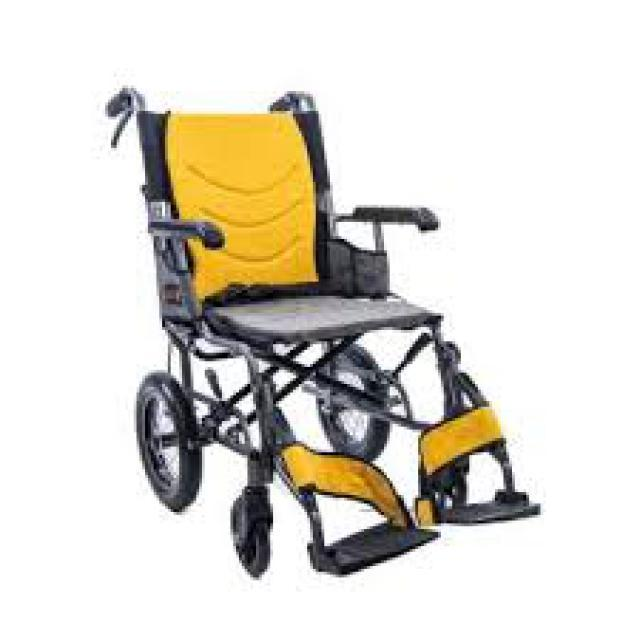wheelchair: (91, 76, 549, 584)
